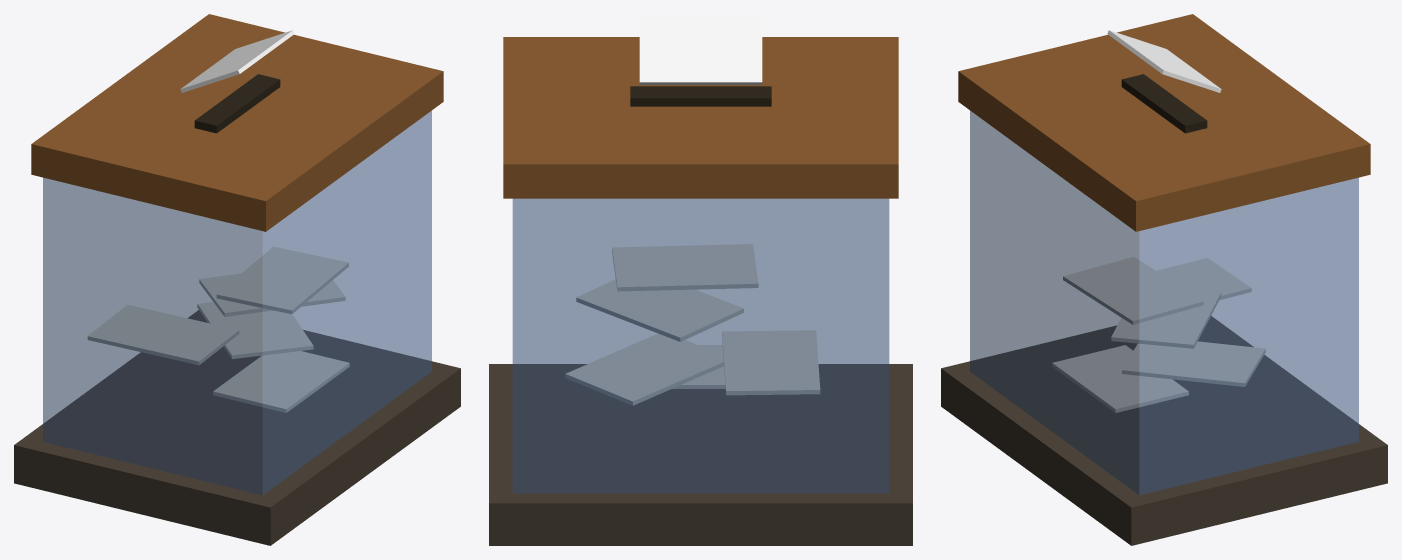
File: ballot_box.glb
3 renders of one model, left to right at view 1: azimuth 30°, elevation 25°; view 2: azimuth 150°, elevation 25°; view 3: azimuth 270°, elevation 25°, orthographic. The views are drawn at different scales.
Size of the model in its own units: 1.13 by 1.05 by 1.06.
